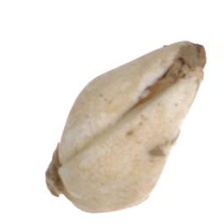L1: (148, 40, 208, 96), (42, 144, 71, 201)
L2: (45, 41, 206, 213)
